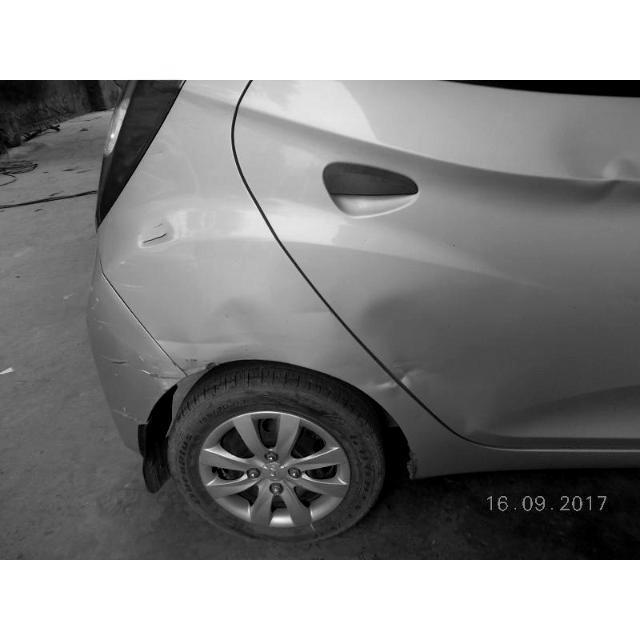doorouter-dent: (301, 85, 640, 434)
quaterpanel-dent: (136, 105, 299, 441)
rear-bumper-dent: (68, 245, 188, 509)
